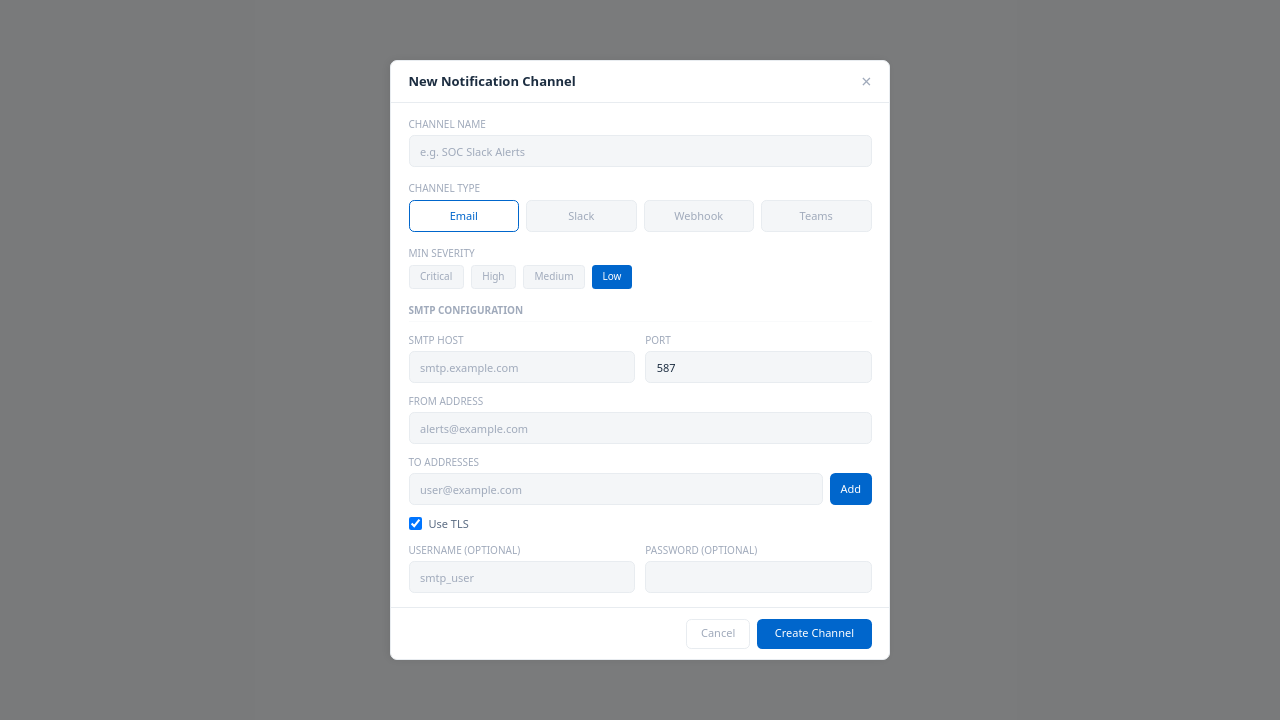
Test: ChannelModal › create mode — type switching › shows Webhook config when Webhook type is selected
The image size is (1280, 720).
Click the button "Webhook" at (699, 216), box [644, 200, 754, 232]
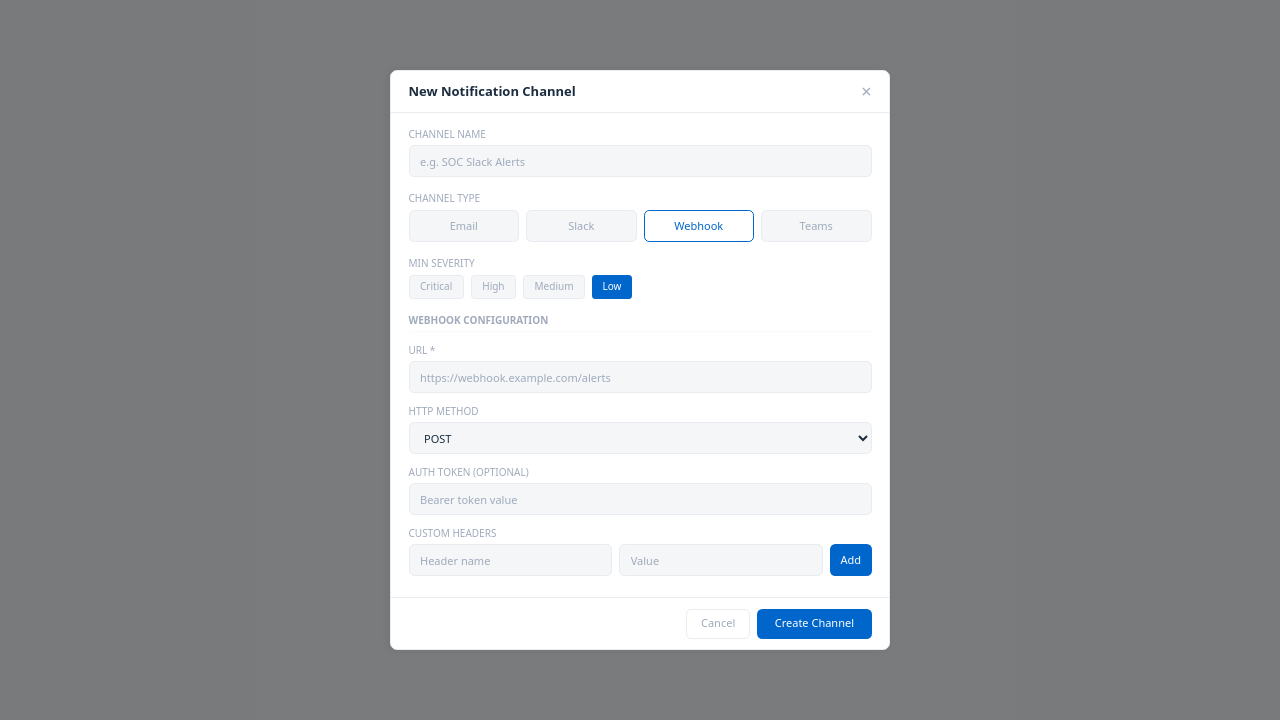
Expected: the field with placeholder "https://webhook.example.com/alerts" is shown, [408, 361, 872, 393]
